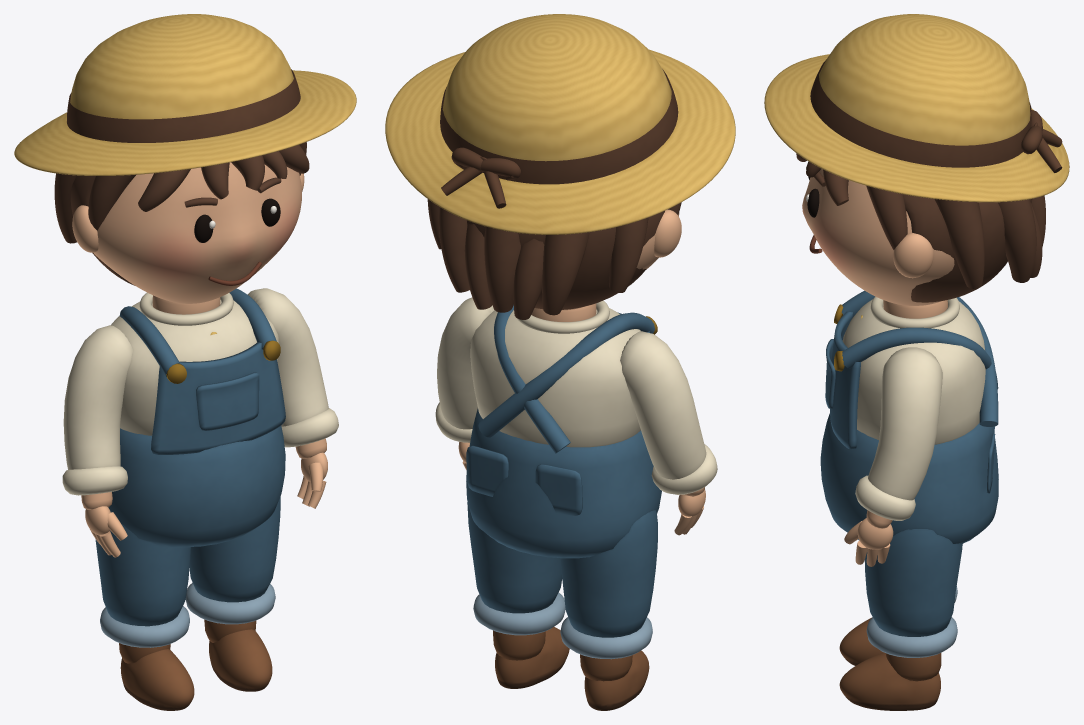
File: player.glb
The picture shows the model from 3 angles, left to right: view 1: azimuth 30°, elevation 25°; view 2: azimuth 150°, elevation 25°; view 3: azimuth 270°, elevation 25°; orthographic projection.
Visible parts, largest first — view 1: StrawHat_Crown, Head_Sculpt, Overalls_ContinuousBody, StrawHat_Brim, Overalls_FrontBib, Sleeve_Organic_R, Trouser_Leg_R, Shirt_UpperTorso, StrawHat_Band, Trouser_Leg_L, Sleeve_Organic_L, Boot_Foot_R (+21 smaller); view 2: StrawHat_Crown, StrawHat_Brim, Overalls_ContinuousBody, Shirt_UpperTorso, Trouser_Leg_R, Sleeve_Organic_R, Trouser_Leg_L, StrawHat_Band, Sleeve_Organic_L, Overalls_XStrap_1, Hair_Crown_Volume, HairLock_10 (+20 smaller); view 3: StrawHat_Crown, StrawHat_Brim, Overalls_ContinuousBody, Trouser_Leg_L, Sleeve_Organic_L, Shirt_UpperTorso, Head_Sculpt, StrawHat_Band, Hair_Crown_Volume, Boot_Foot_L, HairLock_07, Overalls_FrontBib (+14 smaller).
Boxes of the visible parts, bbox=[...] form: StrawHat_Crown: bbox=[70, 14, 293, 119]; Head_Sculpt: bbox=[93, 162, 301, 303]; Overalls_ContinuousBody: bbox=[108, 426, 285, 547]; StrawHat_Brim: bbox=[14, 70, 356, 175]; Overalls_FrontBib: bbox=[151, 342, 285, 454]; Sleeve_Organic_R: bbox=[63, 325, 132, 469]; Trouser_Leg_R: bbox=[95, 509, 190, 626]; Shirt_UpperTorso: bbox=[111, 300, 278, 435]; StrawHat_Band: bbox=[67, 69, 300, 142]; Trouser_Leg_L: bbox=[189, 496, 280, 602]; Sleeve_Organic_L: bbox=[247, 288, 328, 426]; Boot_Foot_R: bbox=[120, 649, 194, 710]; StrawHat_Crown: bbox=[443, 14, 671, 161]; StrawHat_Brim: bbox=[385, 49, 735, 234]; Overalls_ContinuousBody: bbox=[466, 408, 661, 558]; Shirt_UpperTorso: bbox=[470, 308, 640, 447]; Trouser_Leg_R: bbox=[560, 510, 657, 637]; Sleeve_Organic_R: bbox=[620, 331, 706, 479]; Trouser_Leg_L: bbox=[467, 502, 562, 613]; StrawHat_Band: bbox=[440, 69, 678, 184]; Sleeve_Organic_L: bbox=[437, 297, 494, 429]; Overalls_XStrap_1: bbox=[478, 312, 654, 437]; Hair_Crown_Volume: bbox=[467, 211, 664, 309]; HairLock_10: bbox=[542, 232, 589, 315]; StrawHat_Crown: bbox=[819, 14, 1030, 145]; StrawHat_Brim: bbox=[764, 54, 1069, 202]; Overalls_ContinuousBody: bbox=[820, 413, 998, 544]; Trouser_Leg_L: bbox=[864, 529, 962, 636]; Sleeve_Organic_L: bbox=[868, 347, 942, 500]; Shirt_UpperTorso: bbox=[842, 299, 985, 444]; Head_Sculpt: bbox=[802, 168, 954, 305]; StrawHat_Band: bbox=[810, 59, 1031, 167]; Hair_Crown_Volume: bbox=[903, 194, 1032, 302]; Boot_Foot_L: bbox=[839, 652, 940, 710]; HairLock_07: bbox=[934, 199, 984, 288]; Overalls_FrontBib: bbox=[830, 311, 860, 449].
Bounding box in the file's own units: 0.6061 × 1.23 × 0.5205.
Materials: 4 (1 with a texture image).
